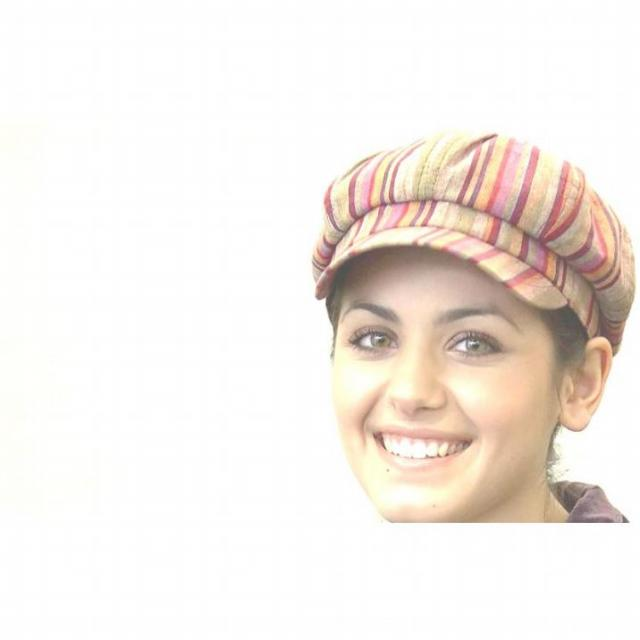live: (310, 246, 620, 522)
